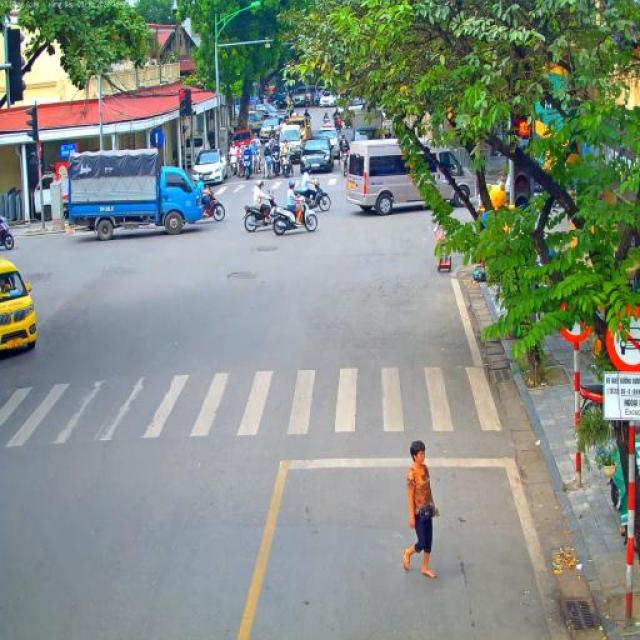bus: (347, 136, 477, 216)
car: (0, 256, 38, 355), (192, 148, 228, 190), (300, 136, 334, 173), (278, 124, 302, 164), (315, 128, 340, 164), (260, 116, 284, 144), (244, 110, 264, 141), (295, 116, 313, 148), (232, 130, 256, 149), (256, 103, 279, 119), (318, 90, 338, 108), (292, 85, 309, 106)
motorcycle: (272, 196, 318, 236), (242, 195, 283, 233), (294, 180, 331, 211), (200, 188, 226, 222), (0, 218, 15, 251), (338, 148, 350, 177), (261, 154, 274, 178), (282, 153, 293, 178), (250, 149, 260, 176), (242, 154, 252, 180), (227, 155, 238, 176), (235, 153, 244, 178), (272, 150, 280, 176), (341, 114, 353, 128), (333, 120, 342, 134)
truck: (66, 148, 204, 242), (350, 107, 388, 147)
